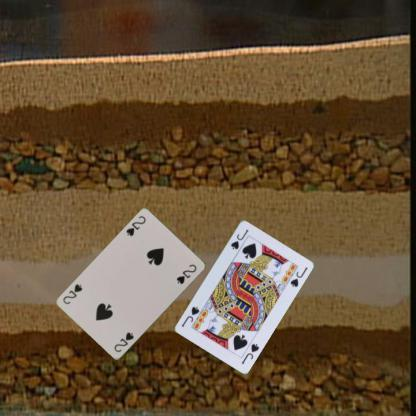2s: (112, 329, 136, 354), (124, 213, 146, 238)
Js: (238, 340, 260, 366), (228, 226, 250, 250)
